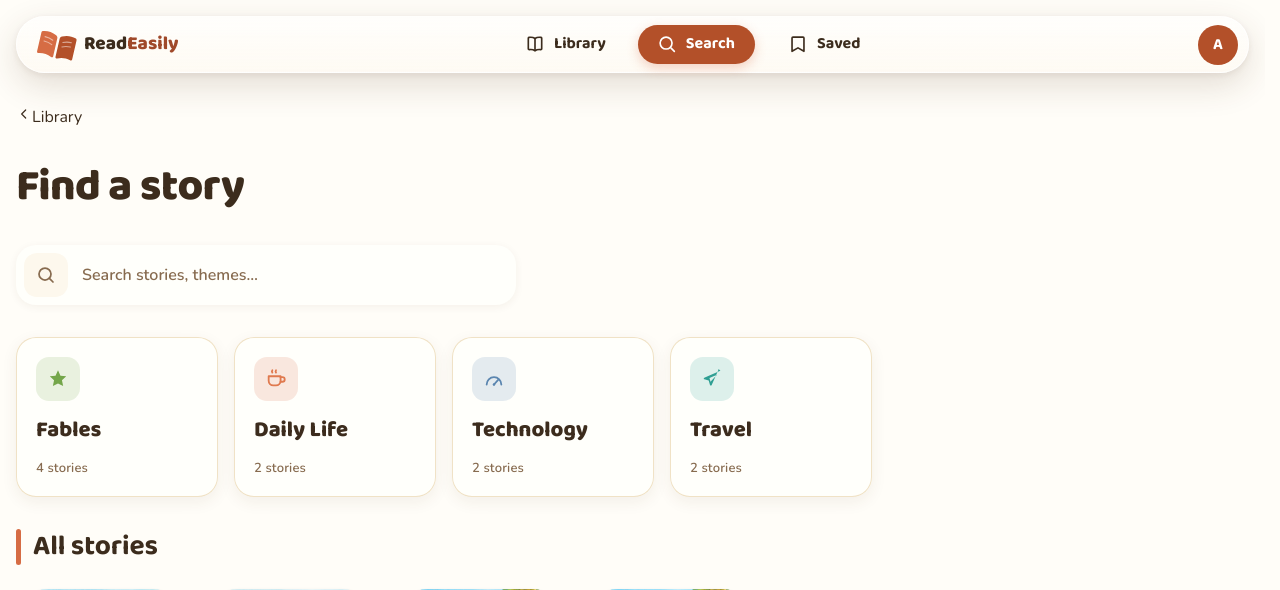
Scenario: SearchScreen › returns to All stories when the active category is re-selected
Expected: the heading "All stories" is shown, [16,524,158,569]
What coordinates should you click on to do the following:
click the link "Fables 4 stories"
I would click on:
 (117, 417)
Its box is [16,337,218,497].
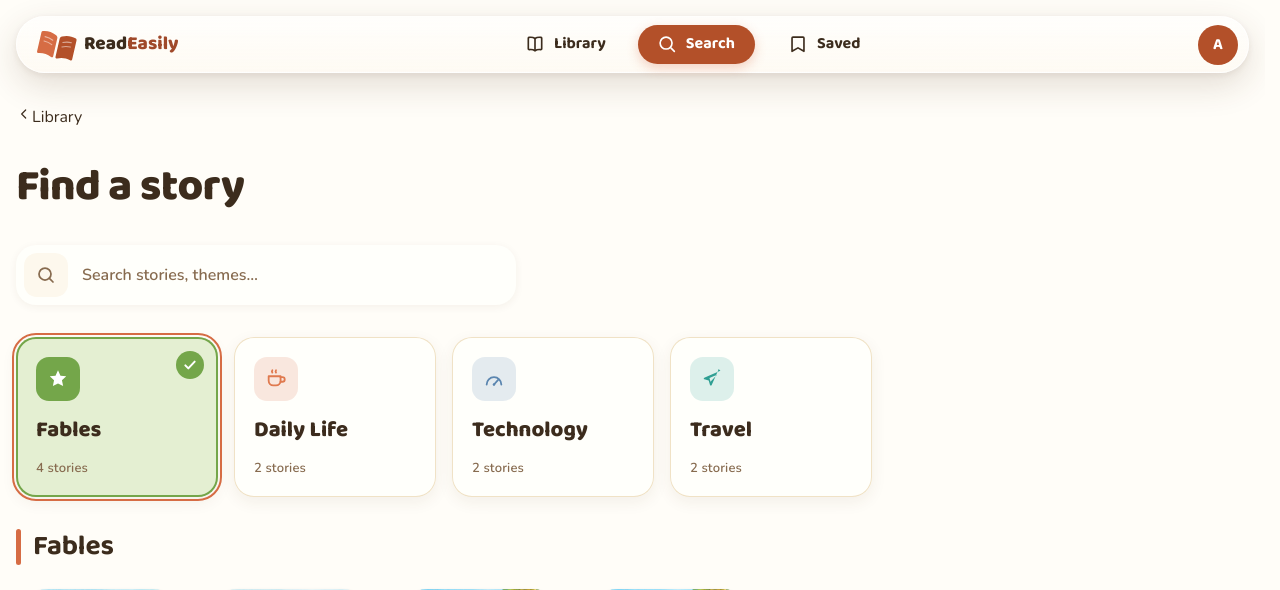
Now the heading "Fables" is shown, box [16,524,114,569]
Re-selecting the active category toggles back to the All view.
What coordinates should you click on to do the following:
click the link "Fables 4 stories"
I would click on:
 (117, 417)
Its box is [16,337,218,497].
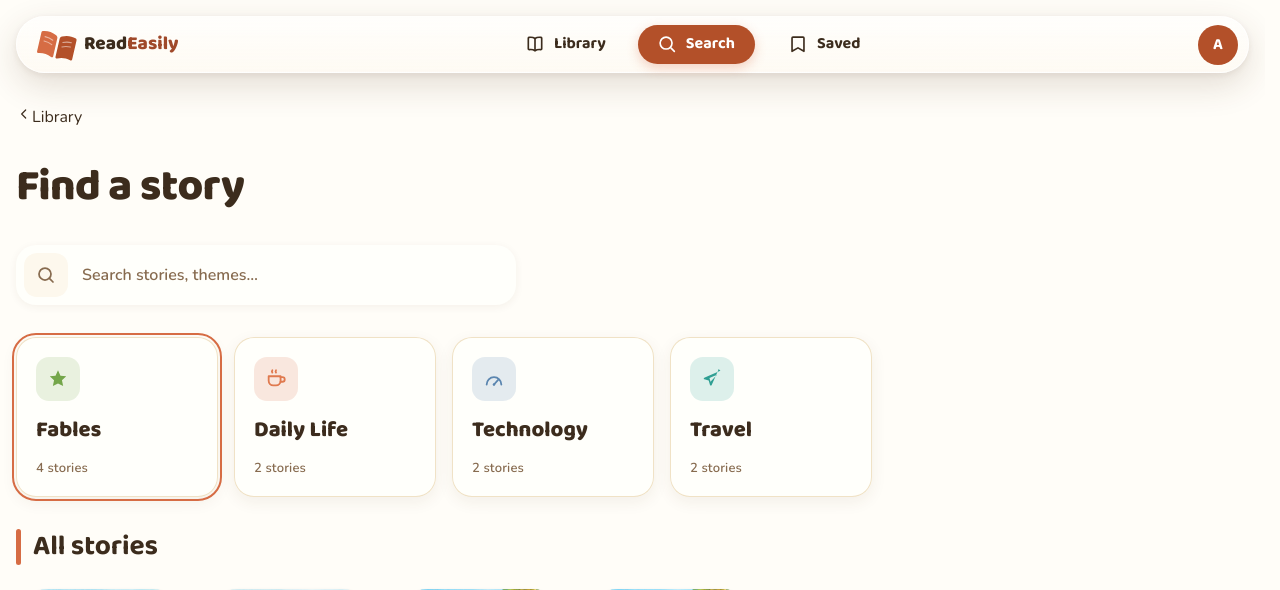
Now the heading "All stories" is shown, box [16,524,158,569]
